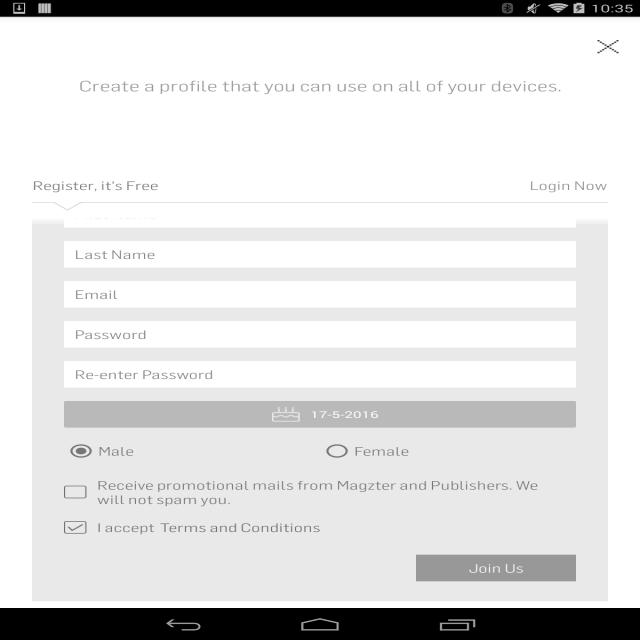Button: (416, 555, 576, 581), (32, 170, 158, 202), (530, 170, 608, 202)
EditText: (64, 201, 576, 228), (64, 241, 576, 268), (64, 281, 576, 308), (64, 321, 576, 348), (64, 361, 576, 388)
ImageView: (272, 407, 300, 422), (597, 40, 619, 53), (64, 521, 86, 534), (64, 486, 86, 498), (53, 202, 82, 211)
RadioButton: (64, 441, 320, 461), (320, 441, 576, 461)
TextView: (86, 471, 576, 513), (0, 77, 640, 94), (0, 17, 640, 29), (21, 30, 582, 43), (158, 179, 529, 192), (160, 520, 321, 535), (86, 520, 160, 535), (310, 408, 379, 421)
